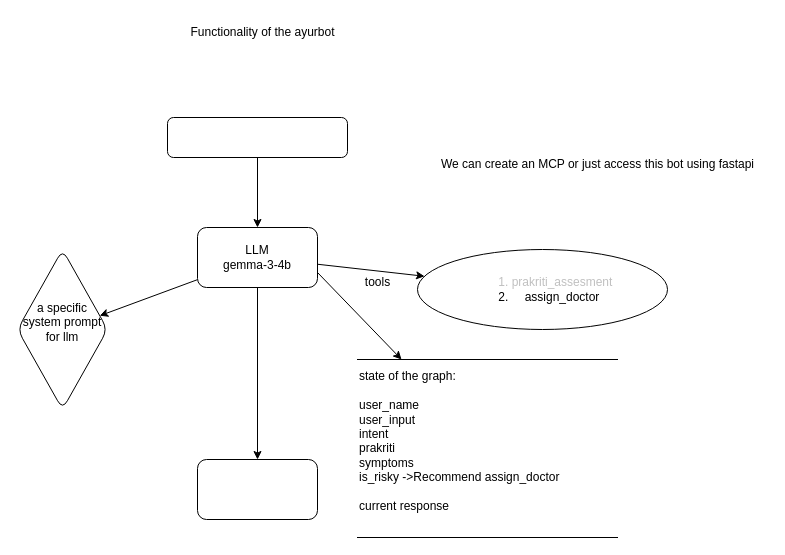
The diagram is 785 pixels wide and 555 high, and some of its shapes have lost their labels. The shapes that lost their labels are listed below. From the top down, each one's centre as x and y in pixels, then its label:
At [257,137]: "Initiate with a initial message".
At [257,489]: "END".
